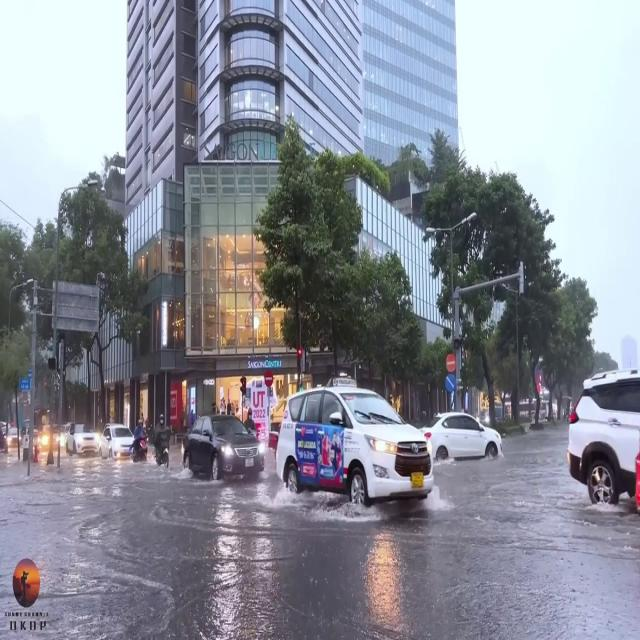bien_vang: (409, 471, 425, 490)
